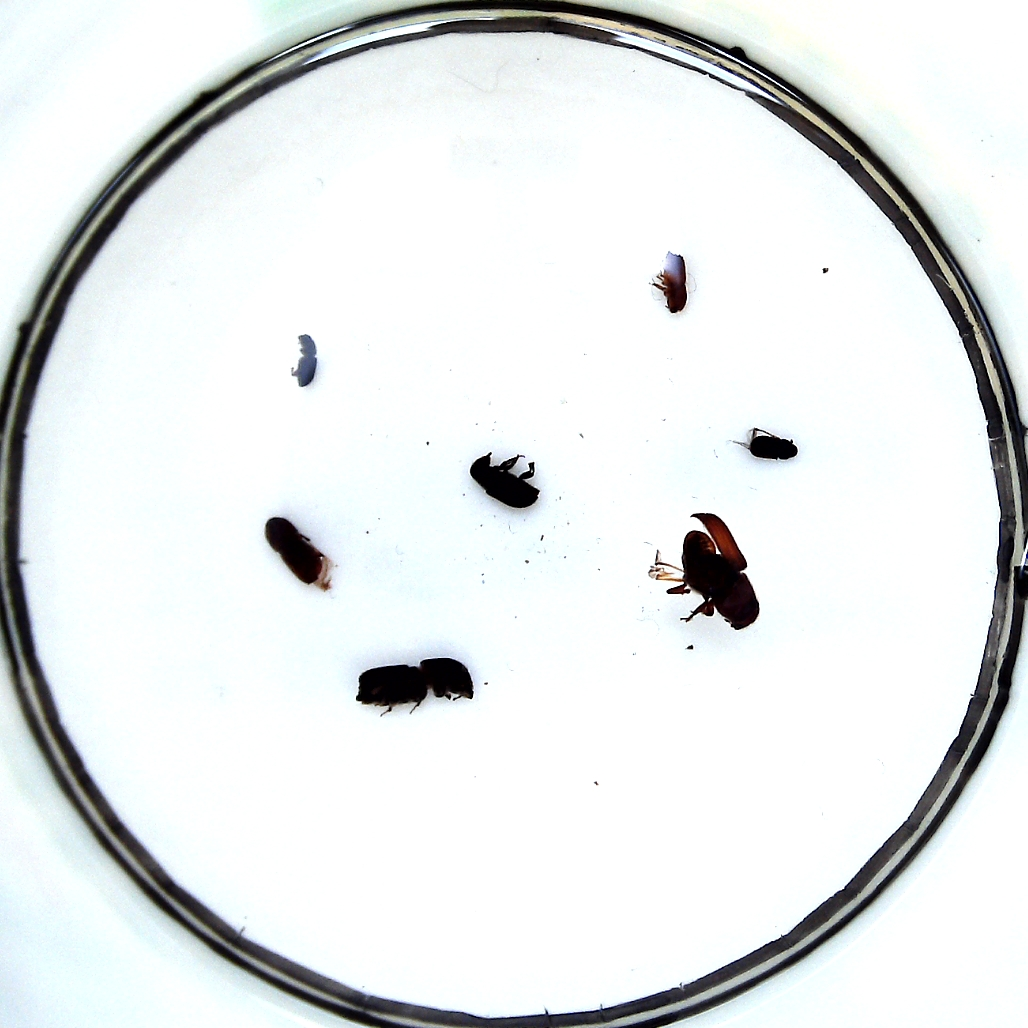Boerner: (359, 656, 475, 708)
Leconte: (650, 514, 760, 626)
Linnaeus: (268, 516, 327, 590)
acuminatus: (656, 251, 690, 316)
armandi: (469, 453, 539, 514)
coleoptera: (745, 426, 798, 465), (290, 331, 318, 392)
